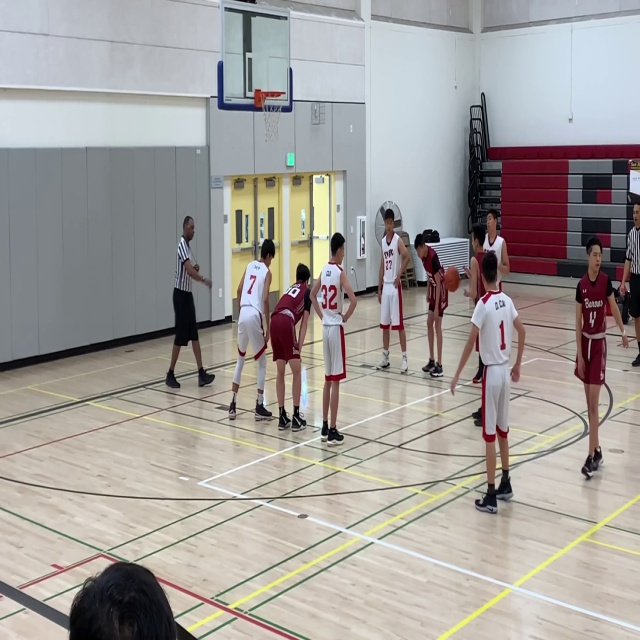Basketball: (443, 267, 460, 292)
